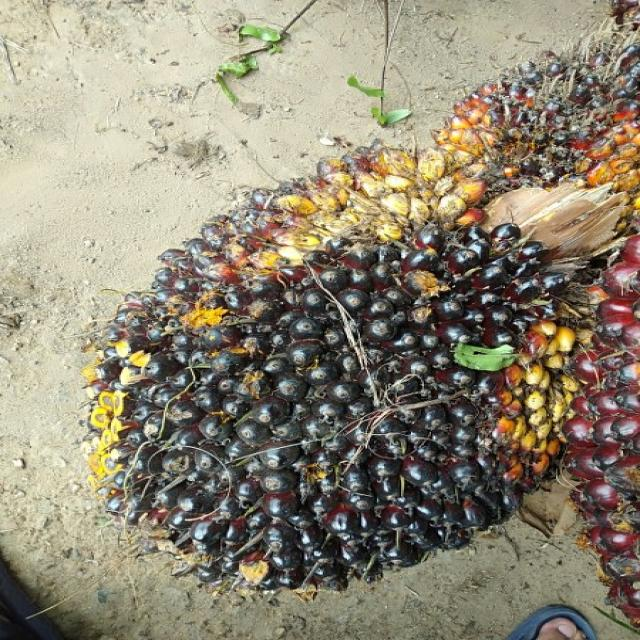fraksi 00: (78, 142, 598, 587)
